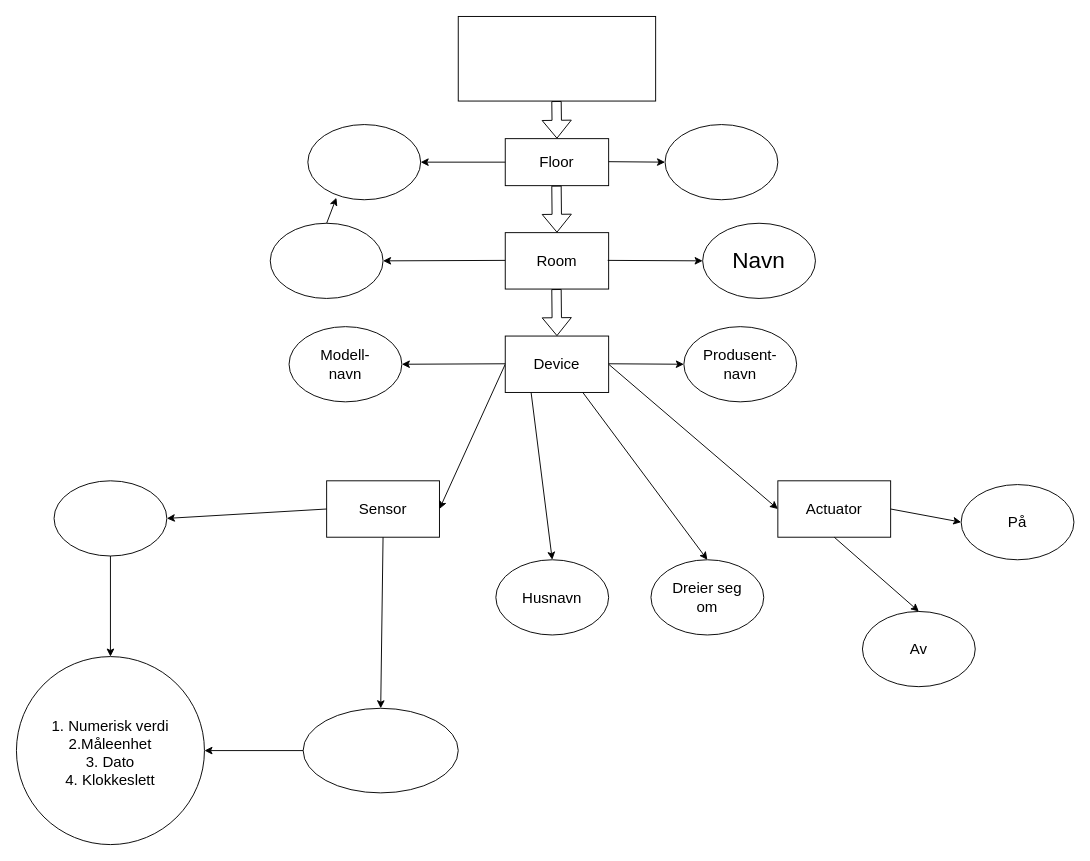
Some shapes in this 1090 by 861 pixel diagram are drawn without their labels. Each missing label, with the centre of its shape:
"Areal m^2" goes at pixel 326 260.
"Building" goes at pixel 556 58.
"Etasje- nummer" goes at pixel 721 162.
"Etasjeareal" goes at pixel 364 162.
"Historikk av målinger" goes at pixel 110 518.
"Sanntids- måling" goes at pixel 380 750.
